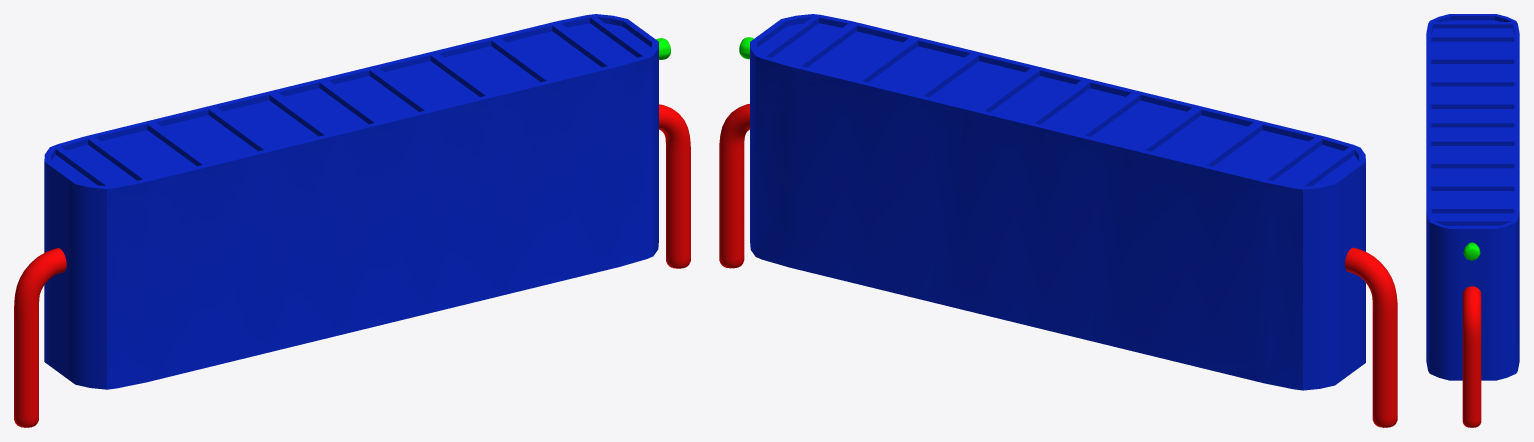
The model's file is radiateur.fbx.
3 views of the same model, side by side, from view 1: azimuth 30°, elevation 25°; view 2: azimuth 150°, elevation 25°; view 3: azimuth 270°, elevation 25° (orthographic). The views are drawn at different scales.
Parts seen in each view (by area): view 1: Box001, Cylinder001, Cylinder002; view 2: Box001, Cylinder001, Cylinder002; view 3: Box001, Cylinder002, Cylinder003.
Boxes of the visible parts, bbox=[...] form: Box001: bbox=[44, 14, 658, 389]; Cylinder001: bbox=[14, 248, 66, 427]; Cylinder002: bbox=[659, 104, 690, 268]; Box001: bbox=[750, 14, 1365, 390]; Cylinder001: bbox=[1345, 247, 1397, 427]; Cylinder002: bbox=[719, 104, 749, 268]; Box001: bbox=[1426, 14, 1519, 380]; Cylinder002: bbox=[1462, 286, 1481, 427]; Cylinder003: bbox=[1463, 242, 1480, 260].
Bounding box in the file's own units: 126 × 43.59 × 20.07.
